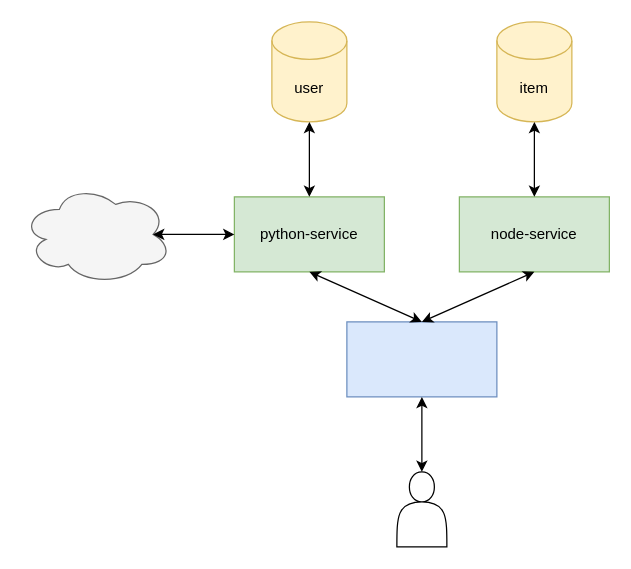
The diagram is 631 pixels wide and 569 high, and some of its shapes have lost their labels. Each missing label, with the centre of its shape:
Exact TIme API: the point at 96,233
frontend-service: the point at 421,359
